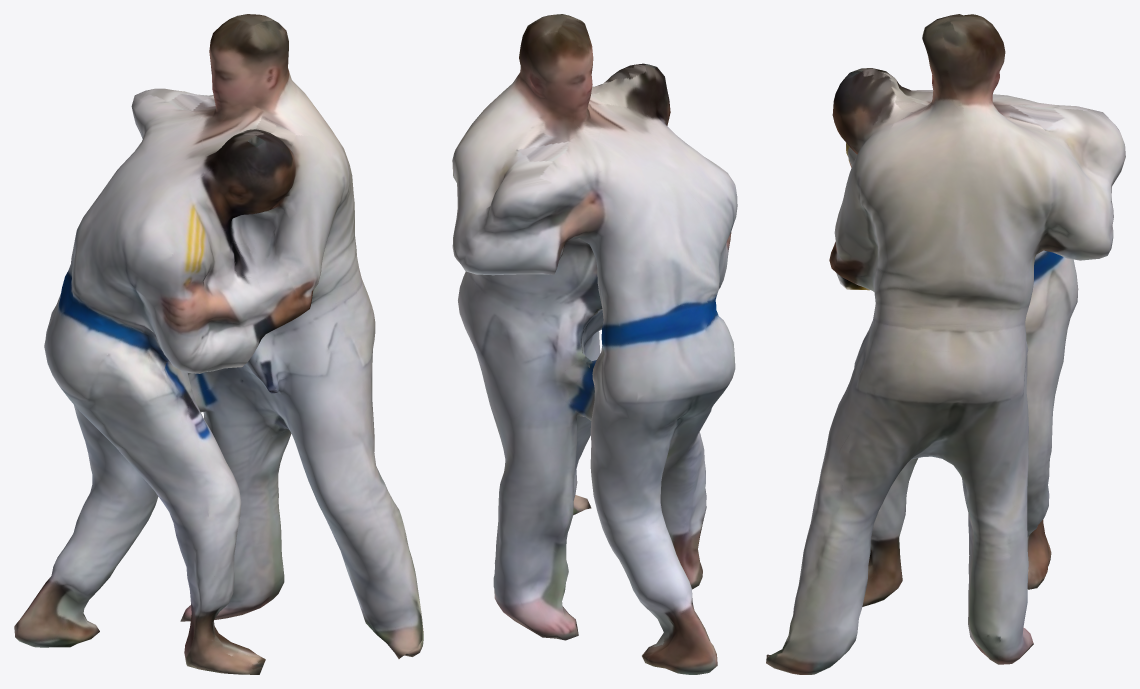
File: hip-throw-1.glb
3 views of the same model, side by side, from view 1: azimuth 30°, elevation 25°; view 2: azimuth 150°, elevation 25°; view 3: azimuth 270°, elevation 25° (orthographic). The views are drawn at different scales.
Size of the model in its own units: 0.6638 by 1.3 by 0.6639.
1 material, 1 textured.
